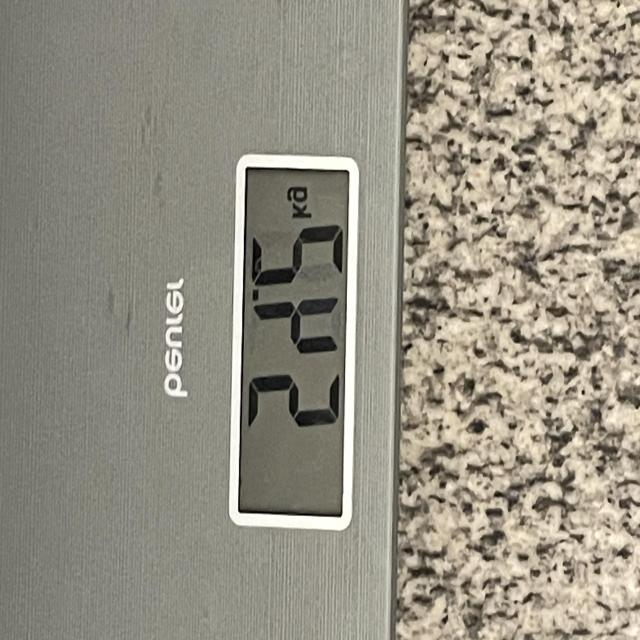ws: (228, 154, 359, 535)
